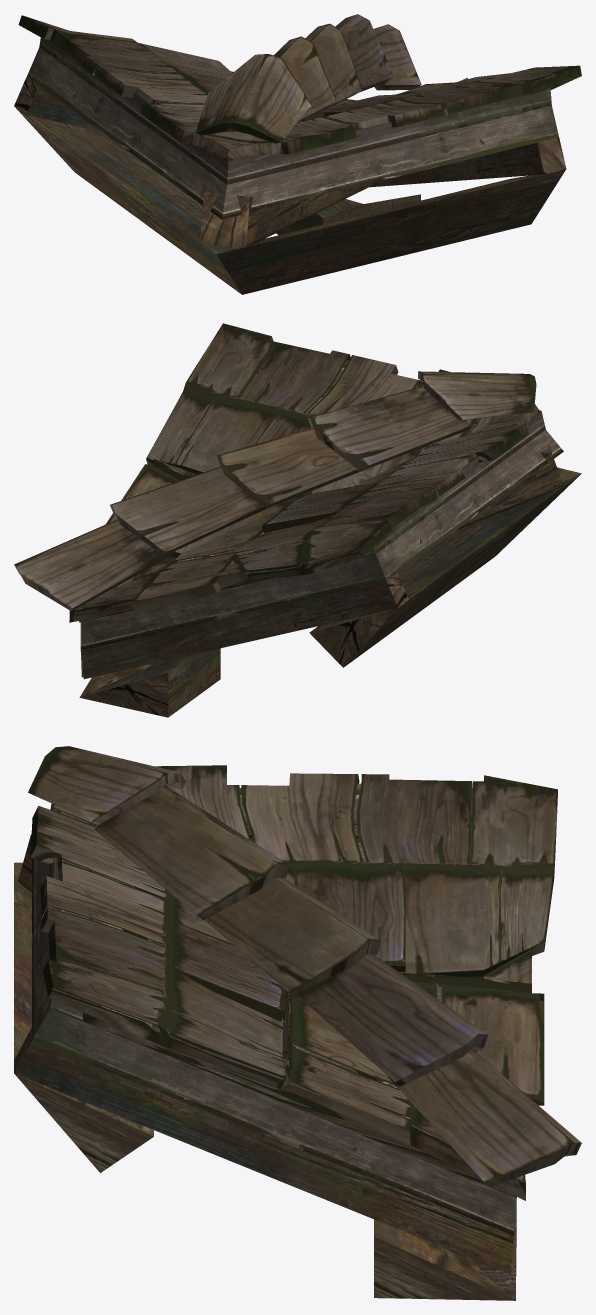
3 views of the same model, one above another, from view 1: azimuth 30°, elevation 25°; view 2: azimuth 150°, elevation 25°; view 3: azimuth 270°, elevation 25° (orthographic). The views are drawn at different scales.
Visible parts, largest first — view 1: SM_T1_Roof_Med_Valley_Shallow_LOD0; view 2: SM_T1_Roof_Med_Valley_Shallow_LOD0; view 3: SM_T1_Roof_Med_Valley_Shallow_LOD0.
Part boxes in pixels (<box>): SM_T1_Roof_Med_Valley_Shallow_LOD0: <box>14,14,581,294</box>; SM_T1_Roof_Med_Valley_Shallow_LOD0: <box>14,323,581,717</box>; SM_T1_Roof_Med_Valley_Shallow_LOD0: <box>14,746,581,1300</box>.
Size of the model in its own units: 1.9 by 1.4 by 1.87.
Materials: 3 (3 with a texture image).
